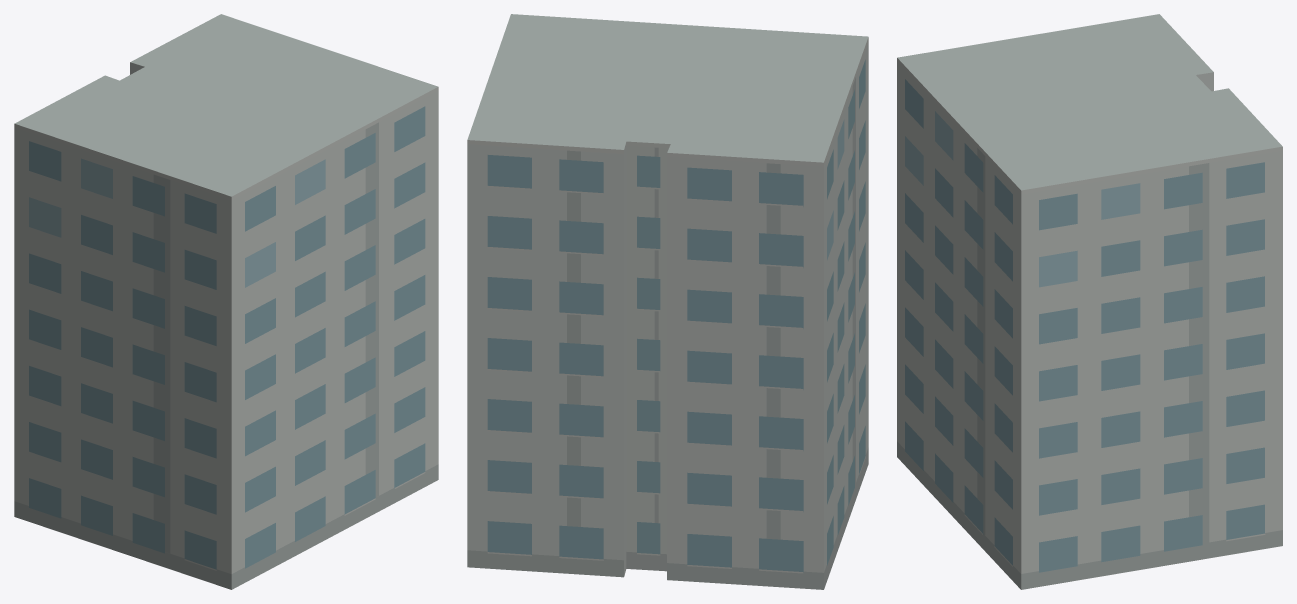
The model's file is survey-upis-32858076.glb.
3 renders of one model, left to right at view 1: azimuth 30°, elevation 25°; view 2: azimuth 150°, elevation 25°; view 3: azimuth 270°, elevation 25°, orthographic. The views are drawn at different scales.
Parts seen in each view (by area): view 1: survey-upis-32858076.tmp; view 2: survey-upis-32858076.tmp; view 3: survey-upis-32858076.tmp.
Boxes of the visible parts, bbox=[...] form: survey-upis-32858076.tmp: bbox=[14, 14, 438, 589]; survey-upis-32858076.tmp: bbox=[467, 14, 868, 589]; survey-upis-32858076.tmp: bbox=[897, 14, 1282, 589].
Bounding box in the file's own units: 23.04 × 24.3 × 21.28.
